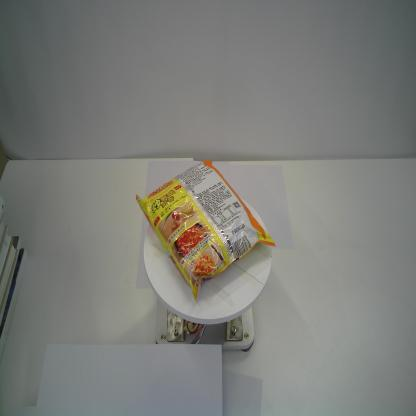Instant Noodles: (135, 159, 277, 302)
